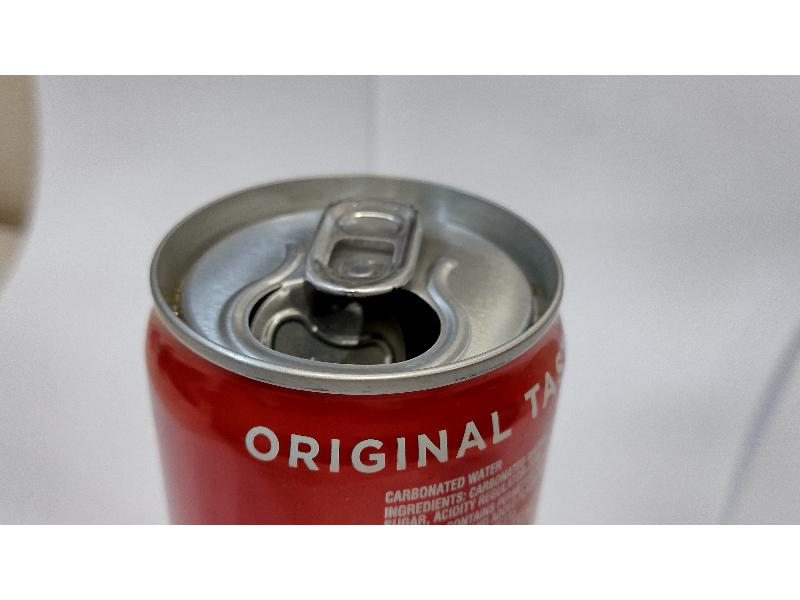can: (140, 164, 574, 526)
